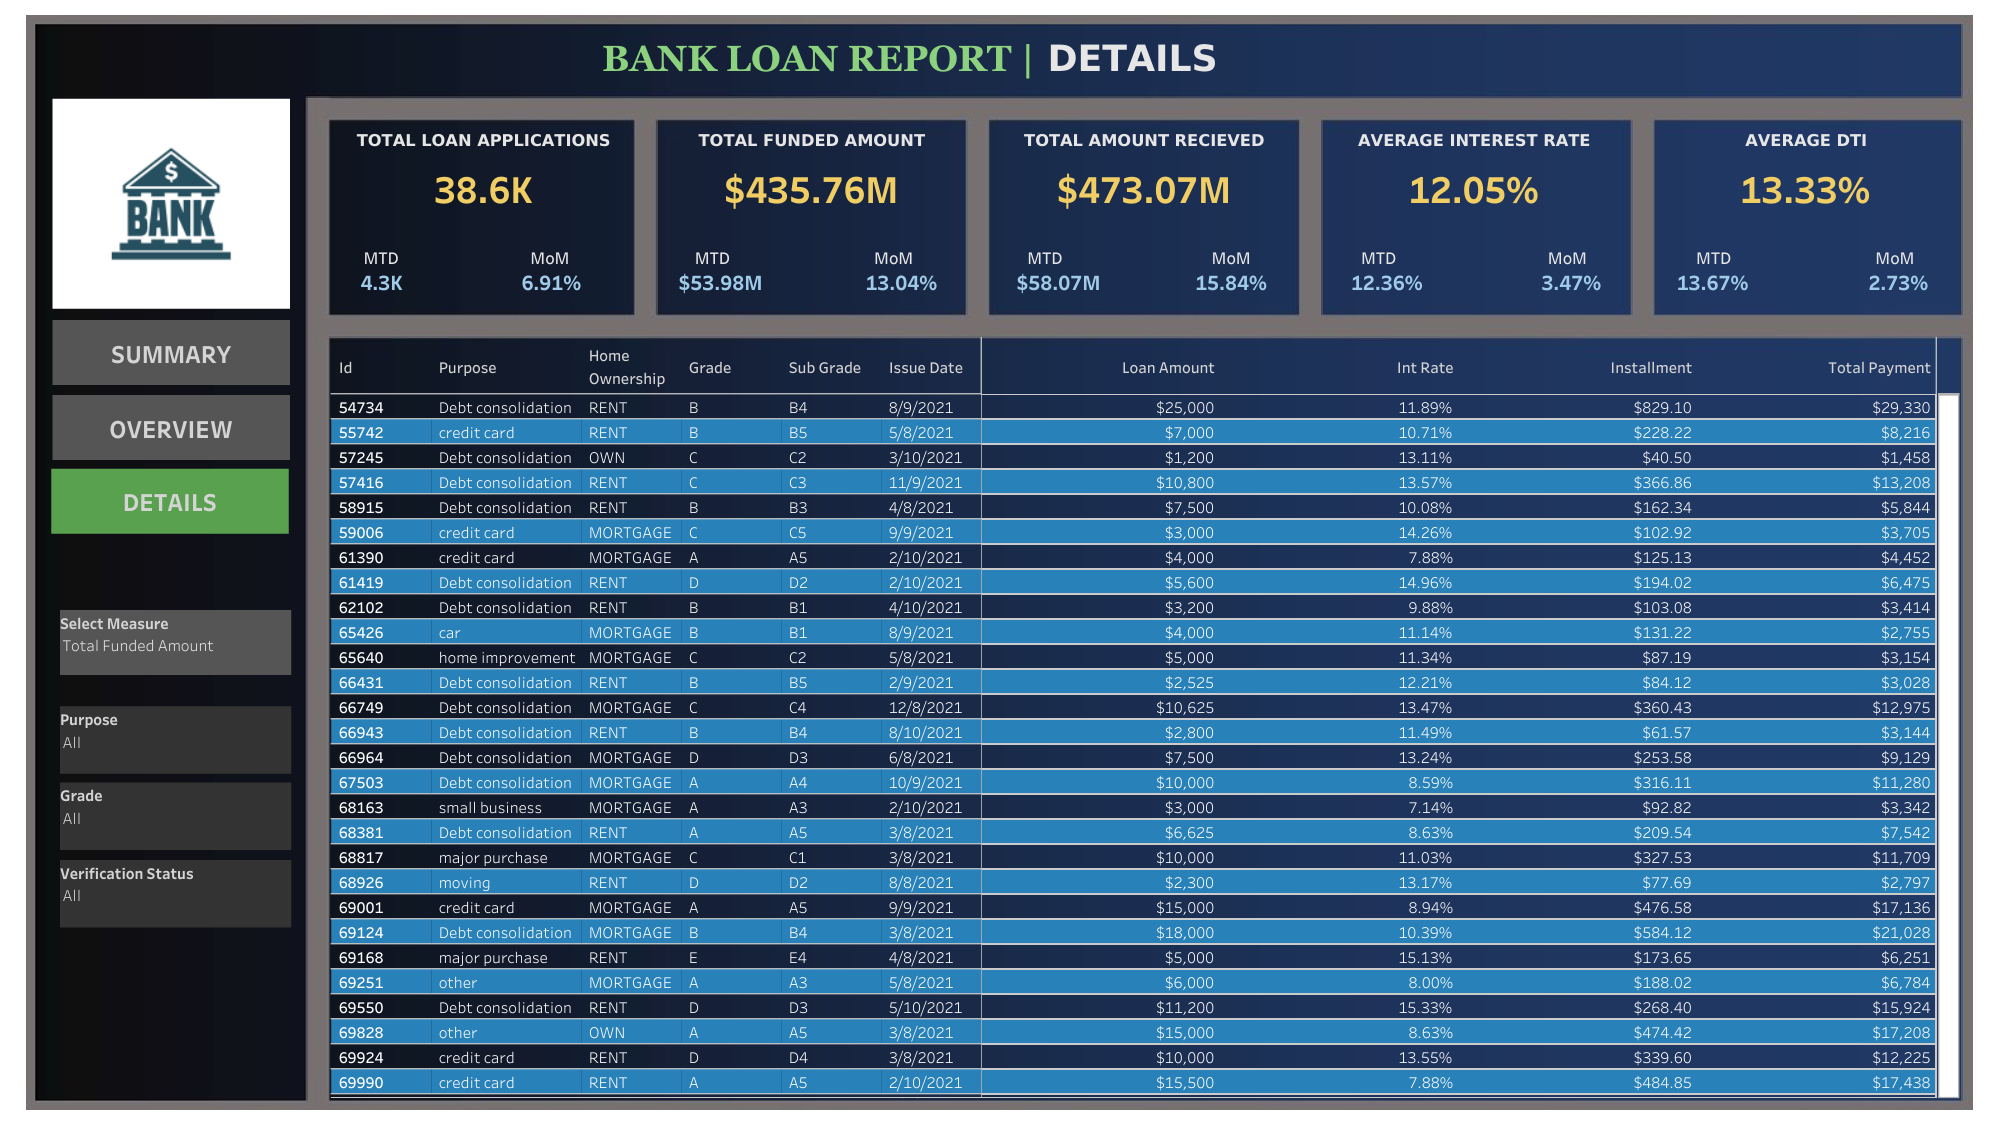

What the dashboard file says about the page in this screenshot:
{"tool":"tableau","page":{"name":"DETAILS","canvas":[1600,900],"ordinal":0},"visuals":[{"type":"text","box":[479,4,706,86]},{"type":"image","param":"D:/Tableau Projects/Bank loan Report/Tableau Background 3.jpg","box":[8,8,1584,884]},{"type":"image","param":"C:/Users/Shashank Rawat/Downloads/BANK LOGO.jpg","box":[42,46,190,235]},{"type":"worksheet","title":"Total Loan Applications","mark":"Automatic","box":[270,98,234,147]},{"type":"worksheet","title":"Total Funded Amount","mark":"Automatic","box":[527,98,245,144]},{"type":"worksheet","title":"Total Amount Recieved","mark":"Automatic","box":[794,98,243,145]},{"type":"worksheet","title":"Average Interest Rate ","mark":"Automatic","box":[1057,98,245,145]},{"type":"worksheet","title":"Average Debt To Income Ratio","mark":"Automatic","box":[1324,98,242,149]},{"type":"text","box":[255,190,100,30]},{"type":"text","box":[390,190,100,30]},{"type":"text","box":[520,190,100,30]},{"type":"text","box":[665,190,100,30]},{"type":"text","box":[786,190,100,30]},{"type":"text","box":[935,190,100,30]},{"type":"text","box":[1053,190,100,30]},{"type":"text","box":[1204,190,100,30]},{"type":"text","box":[1321,190,100,30]},{"type":"text","box":[1466,190,100,30]},{"type":"worksheet","title":"MTD Total Loan Applications","mark":"Automatic","box":[270,204,70,44]},{"type":"worksheet","title":"MoM Total Applications","mark":"Automatic","box":[399,204,84,44]},{"type":"worksheet","title":"MTD Total Funded Amount","mark":"Automatic","box":[525,204,104,44]},{"type":"worksheet","title":"MoM Total Funded Amount","mark":"Automatic","box":[674,204,95,44]},{"type":"worksheet","title":"MTD Total Amount Received","mark":"Automatic","box":[795,204,104,44]},{"type":"worksheet","title":"MoM Total Amount Received","mark":"Automatic","box":[935,204,100,44]},{"type":"worksheet","title":"MTD Average Interest Rate","mark":"Automatic","box":[1065,204,90,44]},{"type":"worksheet","title":"MoM Average Interest Rate","mark":"Automatic","box":[1207,204,100,44]},{"type":"worksheet","title":"MTD Debt to Income Ratio","mark":"Automatic","box":[1318,204,105,44]},{"type":"worksheet","title":"MoM Average Debt to Income Ratio","mark":"Automatic","box":[1469,204,100,44]},{"type":"dashboard-object","box":[42,256,190,52]},{"type":"worksheet","title":"Details Tab","mark":"Automatic","rows":["id","purpose","home_ownership","grade","sub_grade","issue_date"],"box":[265,270,1303,609]},{"type":"dashboard-object","box":[42,316,190,52]},{"type":"dashboard-object","box":[41,375,190,52]},{"type":"parameter","param":"[Parameters].[Parameter 1]","box":[48,488,185,52]},{"type":"filter","title":"Average Debt To Income Ratio","param":"[federated.1sg2grt0dcenkg16ob9ce0p8toyc].[none:purpose:nk]","box":[48,565,185,54]},{"type":"filter","title":"Average Debt To Income Ratio","param":"[federated.1sg2grt0dcenkg16ob9ce0p8toyc].[none:grade:nk]","box":[48,626,185,54]},{"type":"filter","title":"Average Debt To Income Ratio","param":"[federated.1sg2grt0dcenkg16ob9ce0p8toyc].[none:verification_status:nk]","box":[48,688,185,54]}]}

Visuals, with their boxes in screenshot pixels (x1, y1, x2, y2), scaled from the page's 1600x900 canvas onto the 1999x1124 screenshot:
text: [598,5,1481,112]
image: [10,10,1989,1114]
image: [52,57,290,351]
"Total Loan Applications" worksheet: [337,122,630,306]
"Total Funded Amount" worksheet: [658,122,965,302]
"Total Amount Recieved" worksheet: [992,122,1296,303]
"Average Interest Rate " worksheet: [1321,122,1627,303]
"Average Debt To Income Ratio" worksheet: [1654,122,1957,308]
text: [319,237,444,275]
text: [487,237,612,275]
text: [650,237,775,275]
text: [831,237,956,275]
text: [982,237,1107,275]
text: [1168,237,1293,275]
text: [1316,237,1441,275]
text: [1504,237,1629,275]
text: [1650,237,1775,275]
text: [1832,237,1957,275]
"MTD Total Loan Applications" worksheet: [337,255,425,310]
"MoM Total Applications" worksheet: [499,255,603,310]
"MTD Total Funded Amount" worksheet: [656,255,786,310]
"MoM Total Funded Amount" worksheet: [842,255,961,310]
"MTD Total Amount Received" worksheet: [993,255,1123,310]
"MoM Total Amount Received" worksheet: [1168,255,1293,310]
"MTD Average Interest Rate" worksheet: [1331,255,1443,310]
"MoM Average Interest Rate" worksheet: [1508,255,1633,310]
"MTD Debt to Income Ratio" worksheet: [1647,255,1778,310]
"MoM Average Debt to Income Ratio" worksheet: [1835,255,1960,310]
dashboard-object: [52,320,290,385]
"Details Tab" worksheet: [331,337,1959,1098]
dashboard-object: [52,395,290,460]
dashboard-object: [51,468,289,533]
parameter: [60,609,291,674]
"Average Debt To Income Ratio" filter: [60,706,291,773]
"Average Debt To Income Ratio" filter: [60,782,291,849]
"Average Debt To Income Ratio" filter: [60,859,291,927]
